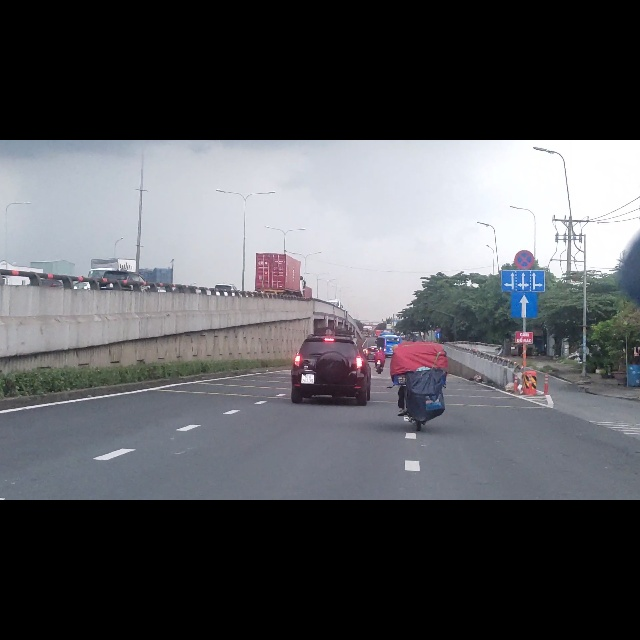bien_cam: (510, 268, 539, 318), (513, 195, 536, 231)
